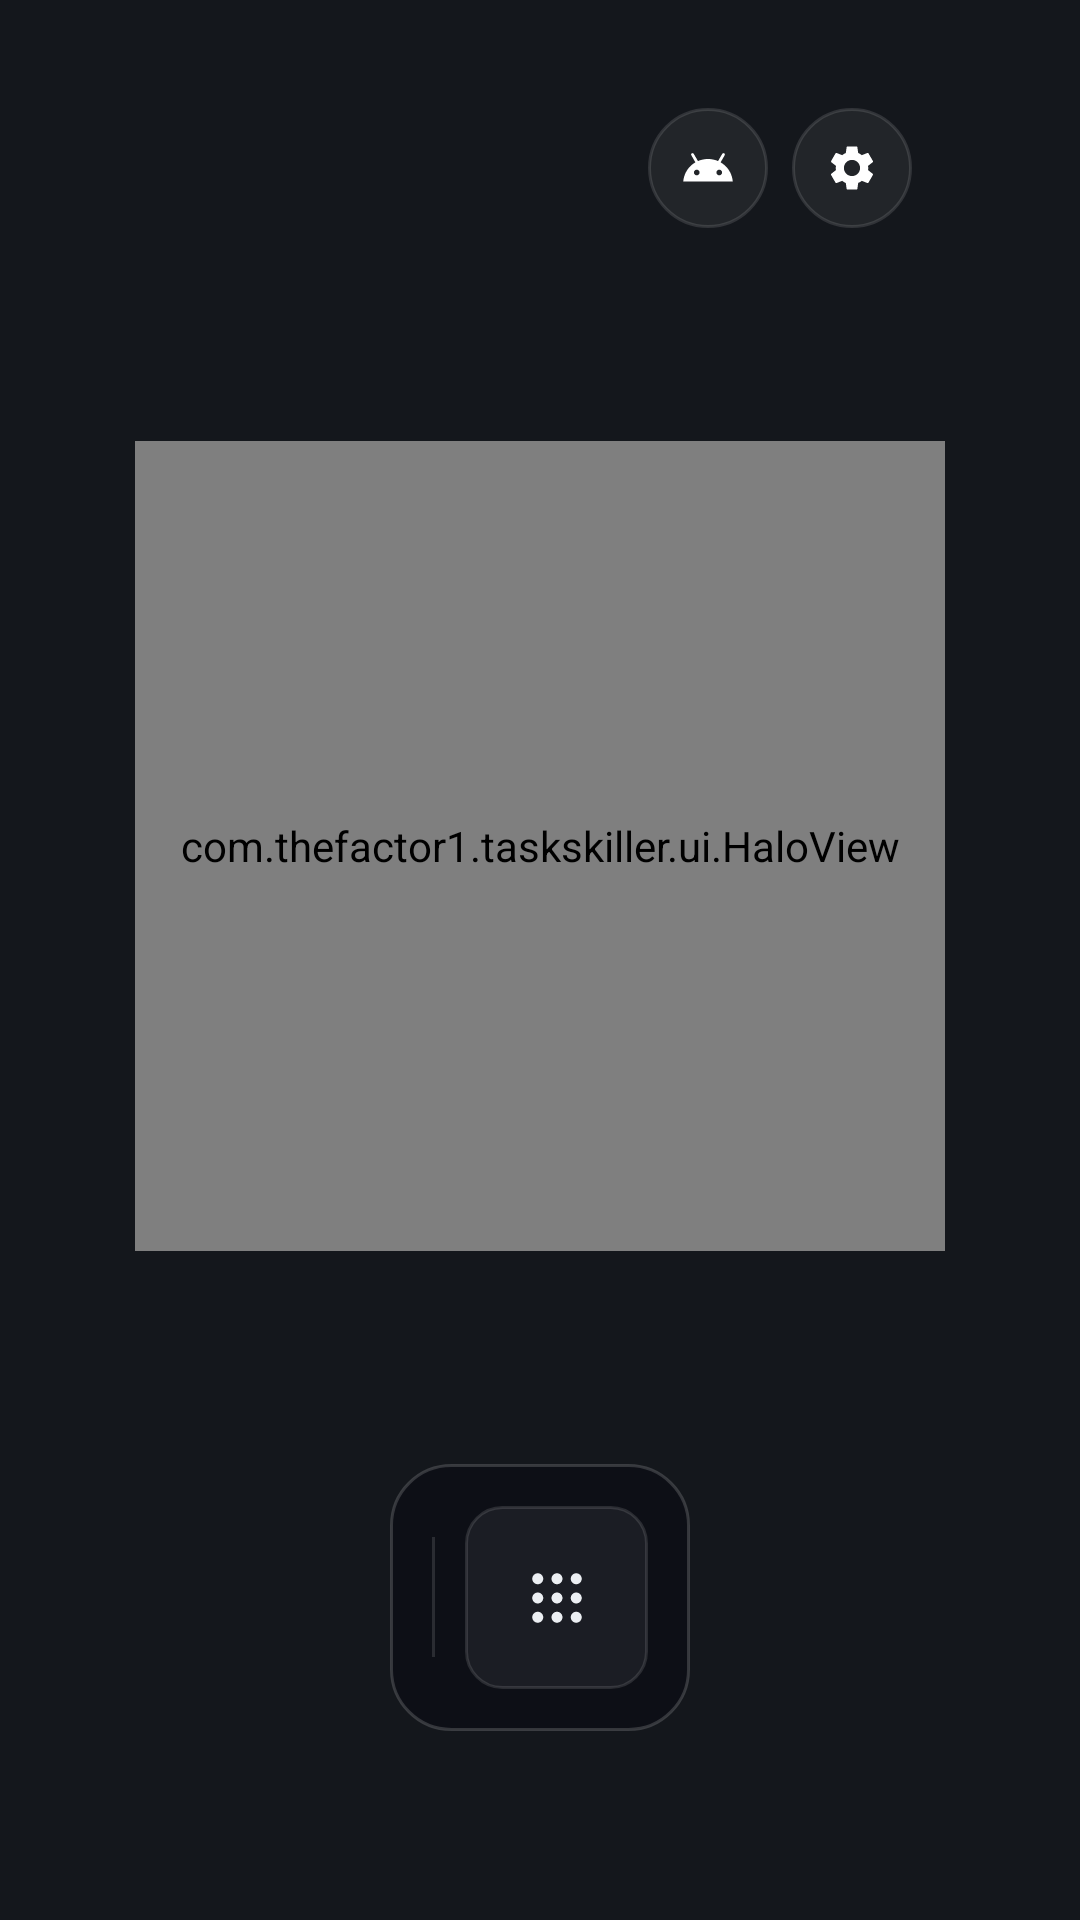

Where to tap for icons on this 1080 x 1920 app screen, as (x=x, y=y):
All apps: (x=556, y=1597)
